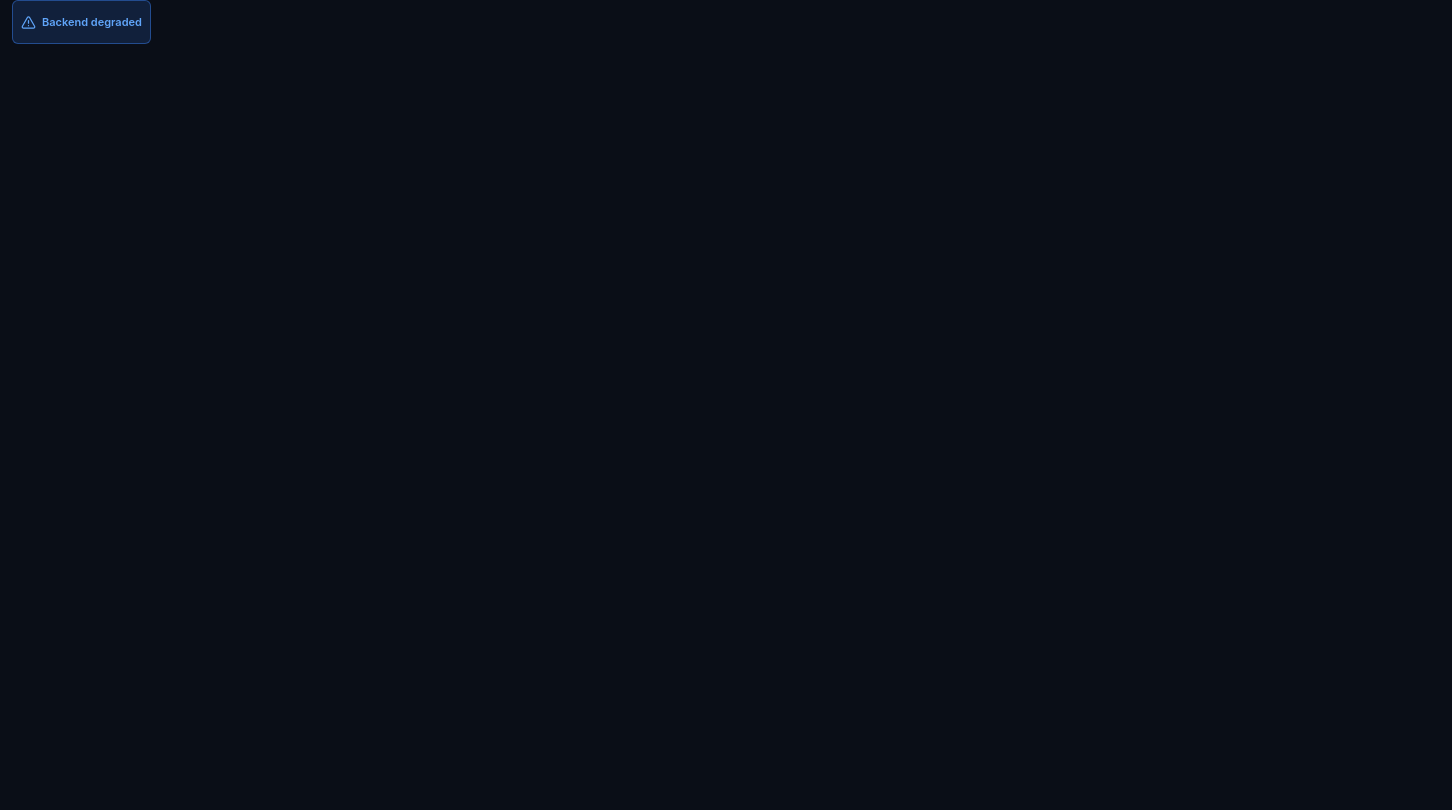
DashboardHealth › shows backend degradation without replacing the latest source observation
This screenshot has width=1452, height=810.
Later steps or results of the test are not shown.
Click the button with aria-label "Workspace health:": {"x": 81, "y": 22} [12,0,151,44]
(page scrolled)
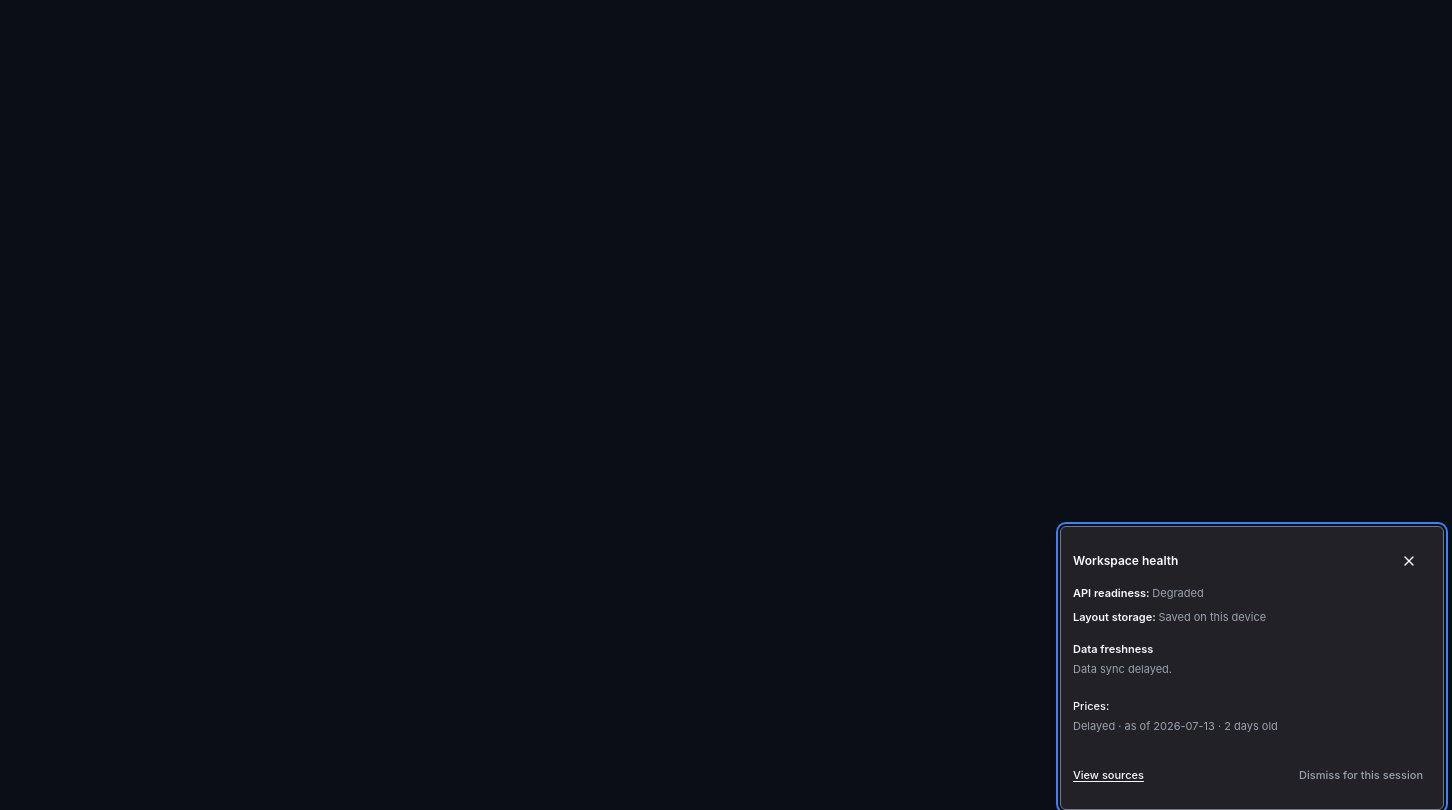
expect the text "API readiness:" is shown: met, box [1073,586,1152,600]
expect the text "as of 2026-07-13 · 2 days old" is shown: met, box [1124,719,1278,733]
